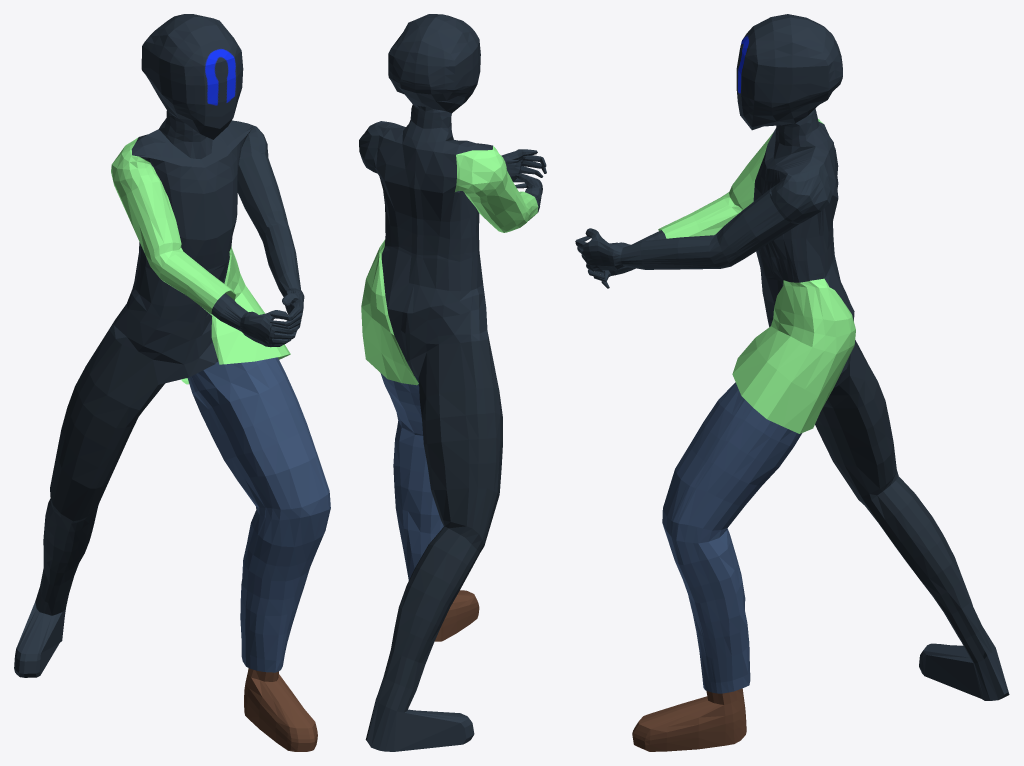
Rendered from Mar_WR_000002.obj.
The picture shows the model from 3 angles, left to right: view 1: azimuth 30°, elevation 25°; view 2: azimuth 150°, elevation 25°; view 3: azimuth 270°, elevation 25°; orthographic projection. The views are drawn at different scales.
Visible parts, largest first — view 1: Cube.000_Cube.001; view 2: Cube.000_Cube.001; view 3: Cube.000_Cube.001.
Part boxes in pixels (x1,y1,x2,y2): Cube.000_Cube.001: (14, 14, 330, 751); Cube.000_Cube.001: (359, 14, 546, 751); Cube.000_Cube.001: (575, 14, 1009, 751).
Bounding box in the file's own units: 1.1 × 3.74 × 2.07.
